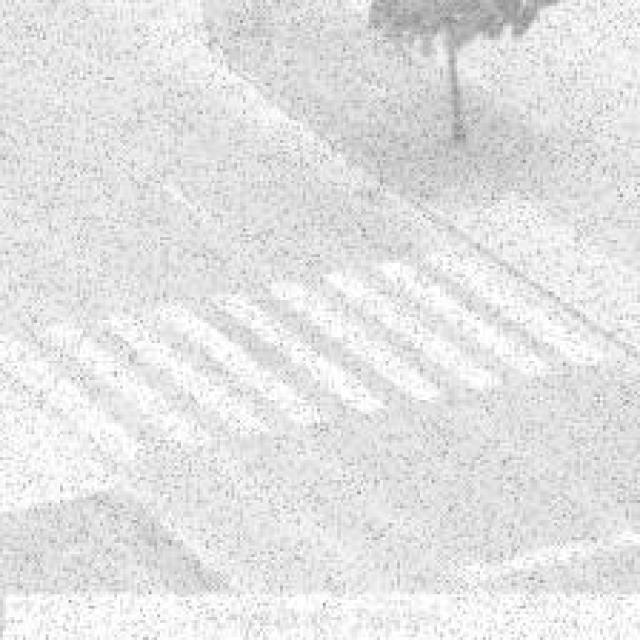crosswalk: (14, 244, 606, 470)
